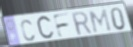0: (110, 7, 128, 31)
C: (36, 14, 56, 42), (20, 18, 36, 42)
F: (52, 12, 72, 39)
M: (88, 8, 113, 34)
R: (70, 10, 94, 37)
